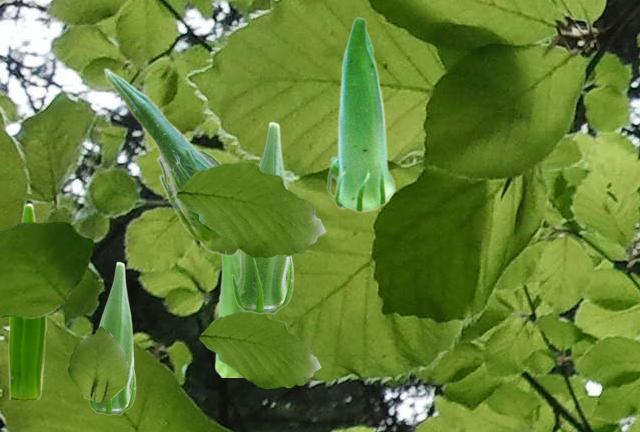okra: (103, 67, 238, 255), (326, 16, 395, 212), (231, 121, 293, 313), (8, 202, 47, 398), (88, 261, 135, 414), (214, 253, 241, 376)
